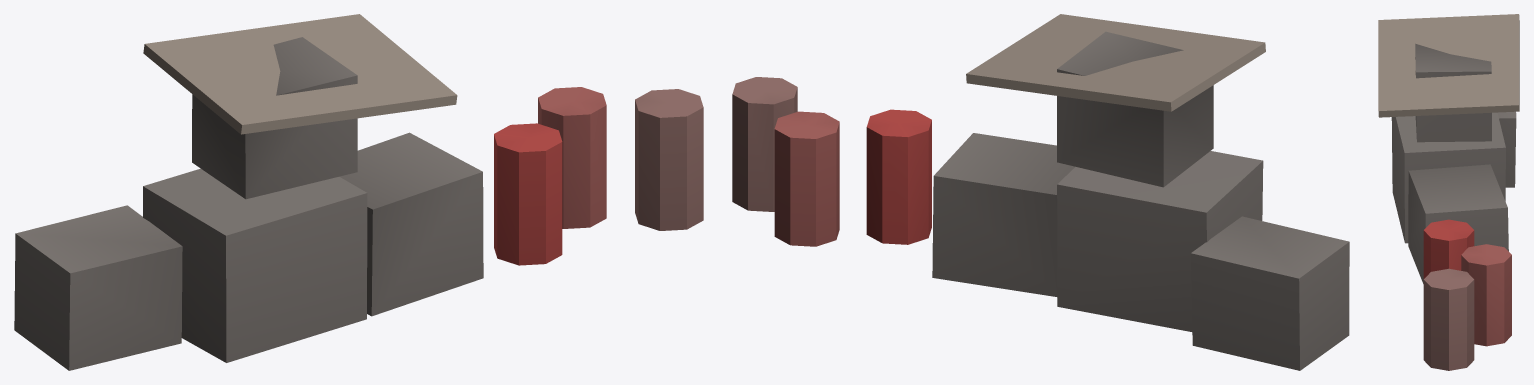
The model's file is dom_stack.glb.
3 renders of one model, left to right at view 1: azimuth 30°, elevation 25°; view 2: azimuth 150°, elevation 25°; view 3: azimuth 270°, elevation 25°, orthographic. The views are drawn at different scales.
Visible parts, largest first — view 1: dom_stack; view 2: dom_stack; view 3: dom_stack.
Boxes of the visible parts, x1,y1,x2,y2 form: dom_stack: [14, 14, 703, 370]; dom_stack: [732, 14, 1349, 370]; dom_stack: [1378, 14, 1519, 370].
Bounding box in the file's own units: 5.62 × 2.13 × 1.5.
